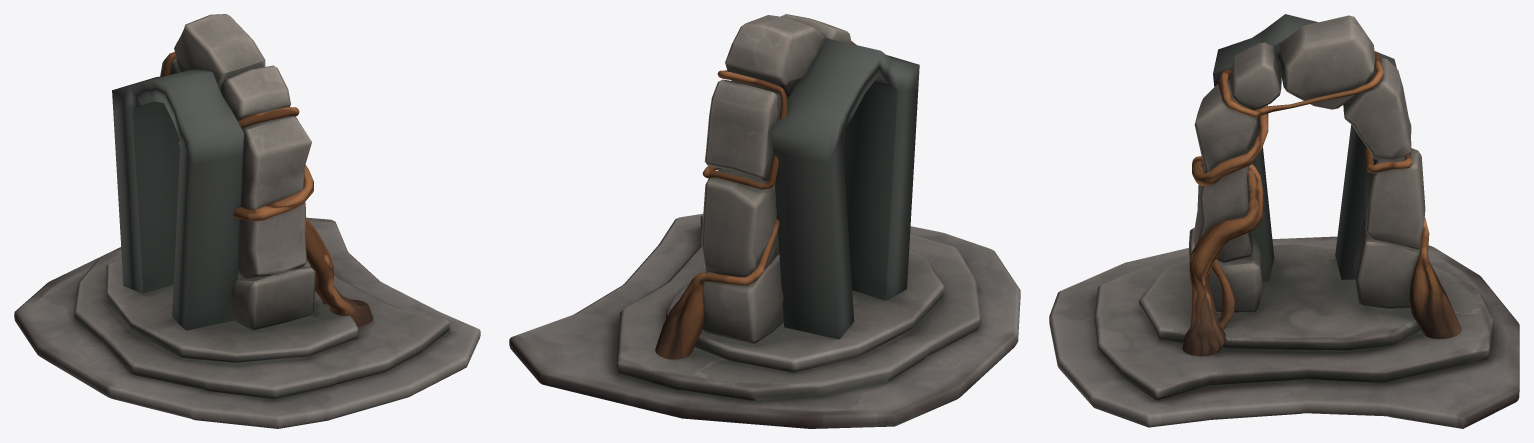
The model's file is portal.glb.
The picture shows the model from 3 angles, left to right: view 1: azimuth 30°, elevation 25°; view 2: azimuth 150°, elevation 25°; view 3: azimuth 270°, elevation 25°; orthographic projection. The views are drawn at different scales.
Visible parts, largest first — view 1: prop_portalpiedras_low, prop_portalpuerta_low, prop_portalmadera_low; view 2: prop_portalpiedras_low, prop_portalpuerta_low, prop_portalmadera_low; view 3: prop_portalpiedras_low, prop_portalmadera_low, prop_portalpuerta_low.
Part boxes in pixels (x1,y1,x2,y2): prop_portalpiedras_low: (14, 14, 480, 428); prop_portalpuerta_low: (112, 69, 243, 330); prop_portalmadera_low: (161, 52, 372, 326); prop_portalpiedras_low: (509, 14, 1020, 428); prop_portalpuerta_low: (771, 38, 919, 339); prop_portalmadera_low: (655, 41, 856, 359); prop_portalpiedras_low: (1049, 15, 1519, 428); prop_portalmadera_low: (1182, 53, 1461, 356); prop_portalpuerta_low: (1213, 14, 1396, 281).
Size of the model in its own units: 5.46 by 4.38 by 5.95.
3 materials, 3 textured.
